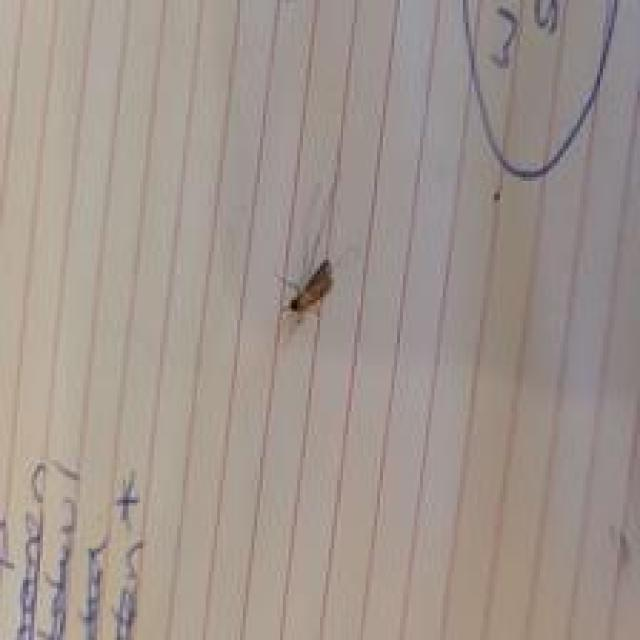Culex: (277, 259, 334, 324)
